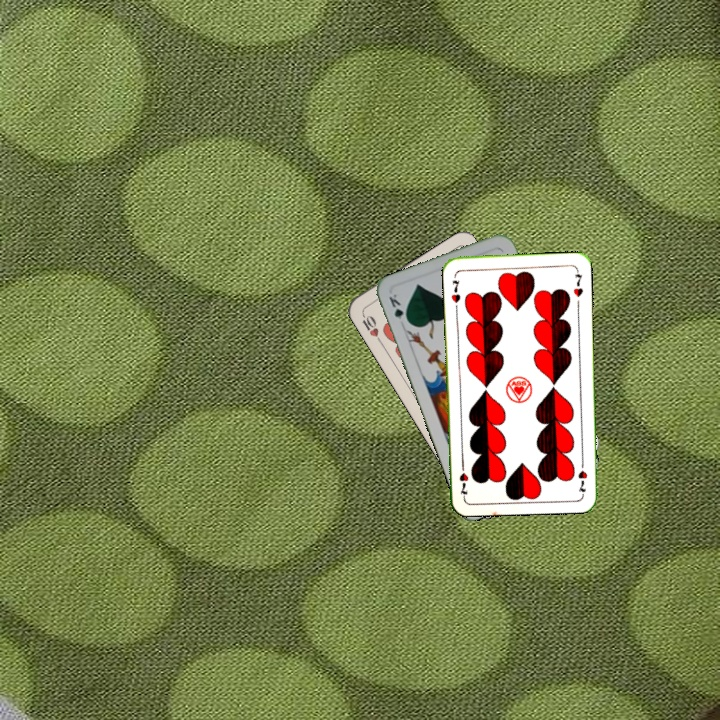GK: (385, 290, 411, 326)
H10: (358, 308, 384, 345)
H7: (574, 456, 590, 496), (447, 276, 463, 305)
